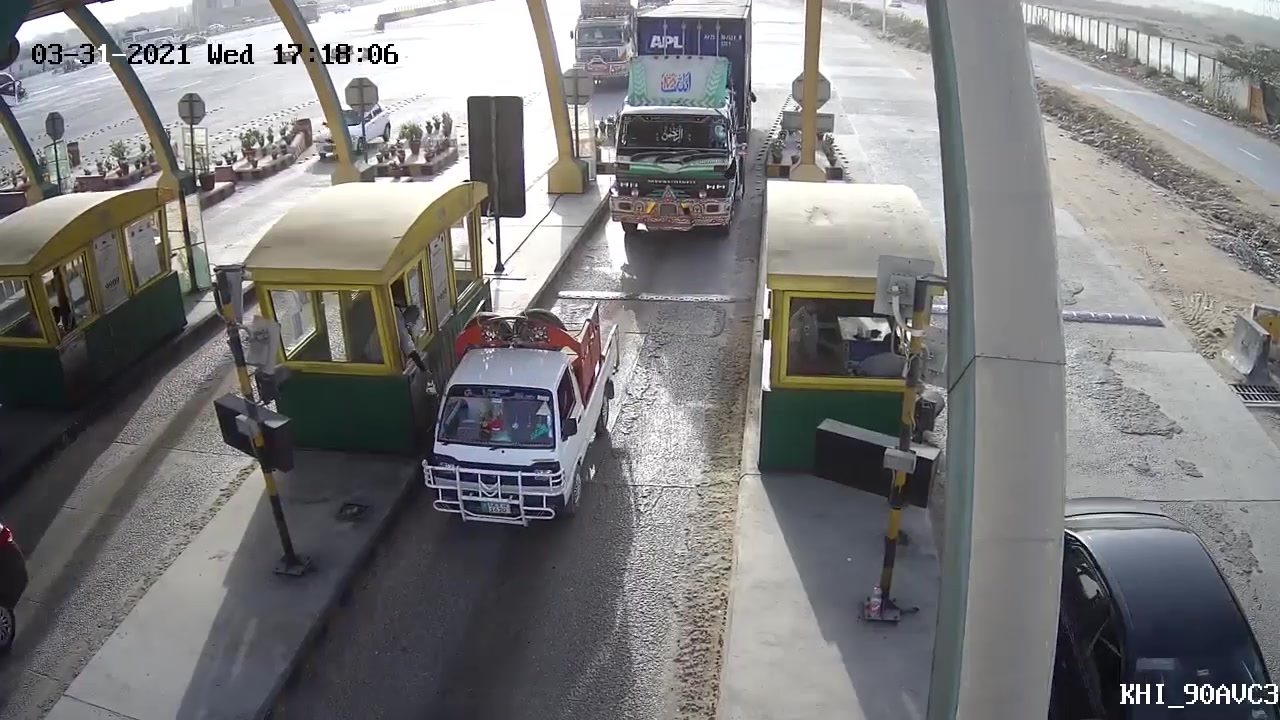F1: (424, 298, 626, 530)
F6: (606, 2, 754, 252)
